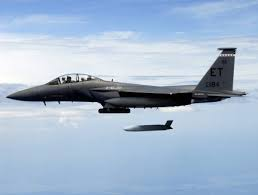maybay_muctieu: (9, 48, 251, 114)
ten_lua: (121, 118, 179, 136)
